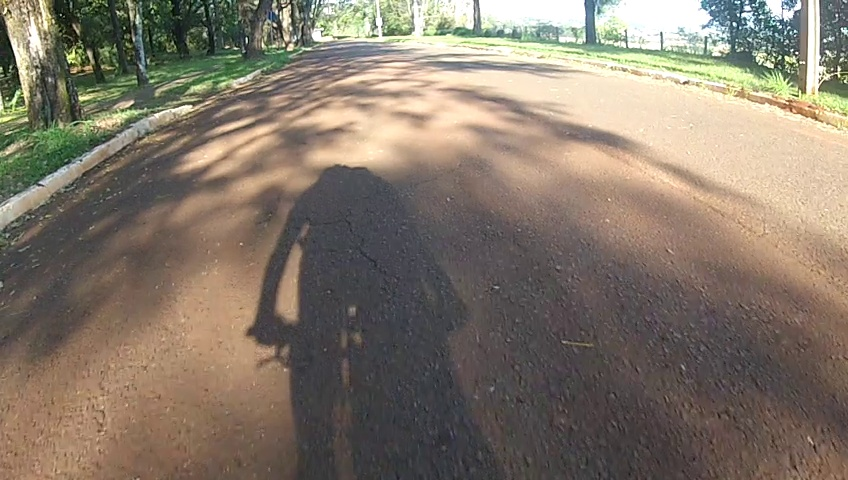TRF: (299, 182, 411, 278)
